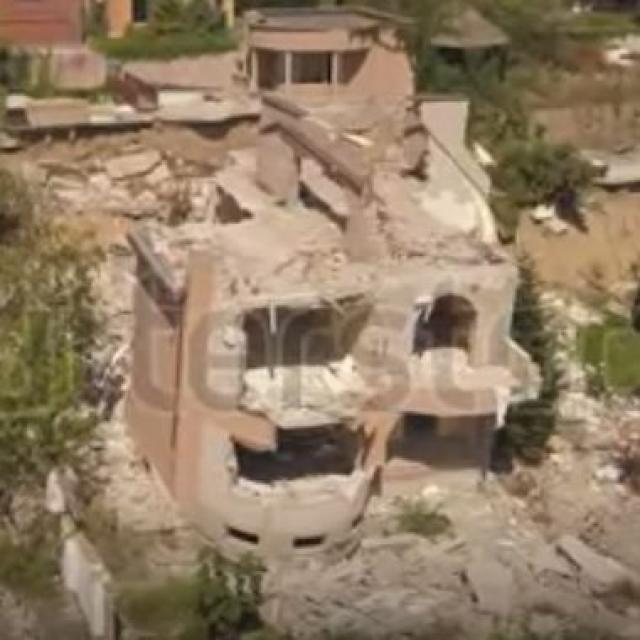collapsed_building: (106, 125, 509, 562)
